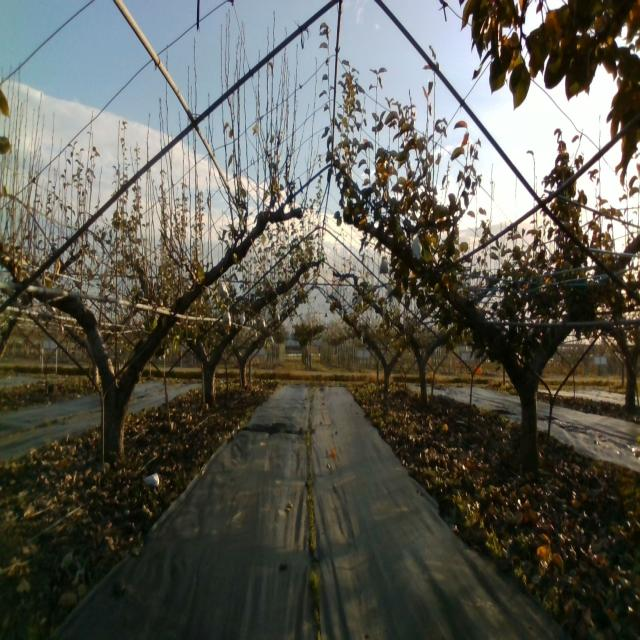pearbags: (412, 234, 422, 260)
